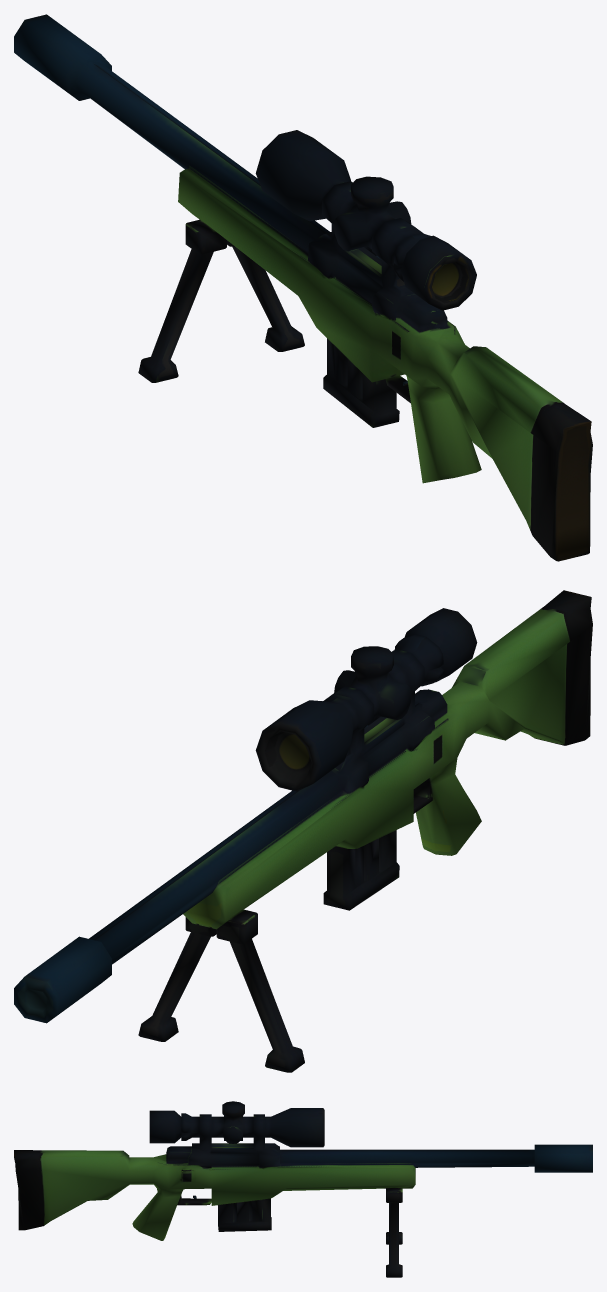
The model's file is Sniper Rifle Low Hunyuan 3D.glb.
3 renders of one model, top to bottom at view 1: azimuth 30°, elevation 25°; view 2: azimuth 150°, elevation 25°; view 3: azimuth 270°, elevation 25°, orthographic. The views are drawn at different scales.
Parts seen in each view (by area): view 1: material; view 2: material; view 3: material.
Boxes of the visible parts, x1,y1,x2,y2 form: material: (14, 14, 592, 561); material: (14, 590, 592, 1072); material: (14, 1101, 592, 1277).
Bounding box in the file's own units: 0.3105 × 0.5487 × 1.9.
Materials: 1 (1 with a texture image).
